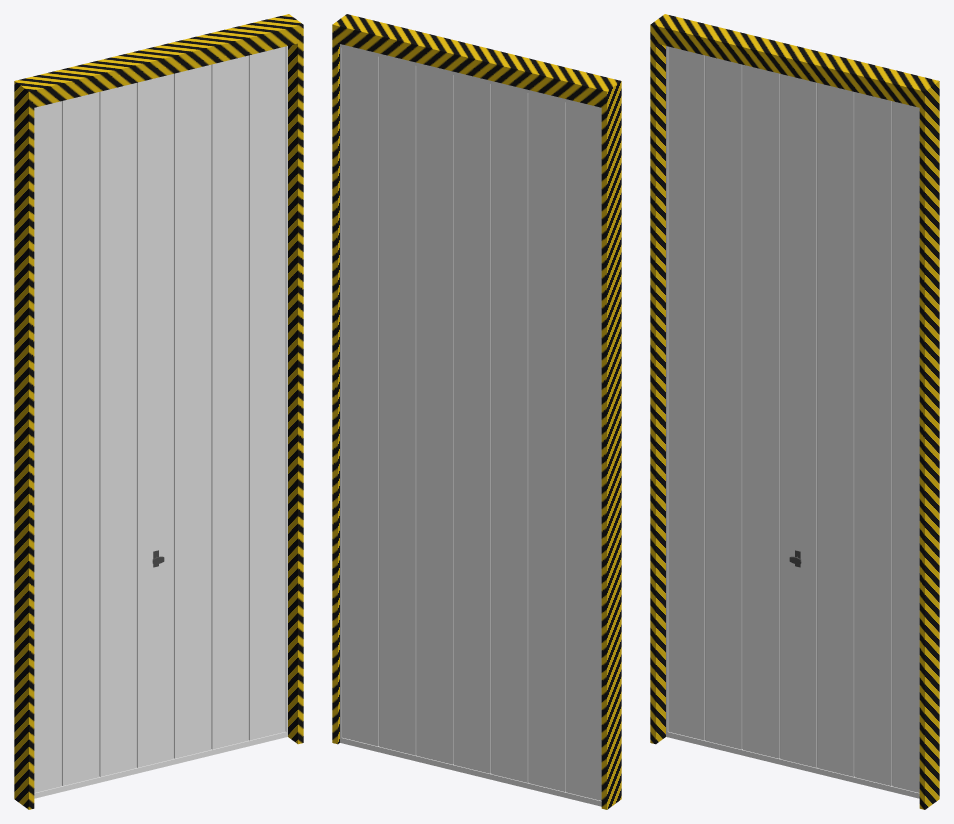
The model's file is door.glb.
The picture shows the model from 3 angles, left to right: view 1: azimuth 30°, elevation 25°; view 2: azimuth 150°, elevation 25°; view 3: azimuth 330°, elevation 25°; orthographic projection.
Parts seen in each view (by area): view 1: Node4, Node5, Node3; view 2: Node4, Node5, Node3; view 3: Node4, Node5, Node3.
Boxes of the visible parts, left/top/right/bottom form: Node4: left=34, top=46, right=287, bottom=798; Node5: left=14, top=14, right=303, bottom=809; Node3: left=61, top=55, right=249, bottom=785; Node4: left=340, top=44, right=601, bottom=806; Node5: left=332, top=14, right=621, bottom=809; Node3: left=378, top=56, right=565, bottom=791; Node4: left=666, top=46, right=919, bottom=798; Node5: left=650, top=14, right=939, bottom=809; Node3: left=704, top=55, right=892, bottom=785.
Size of the model in its own units: 82 by 205 by 7.5.
Materials: 4 (1 with a texture image).
